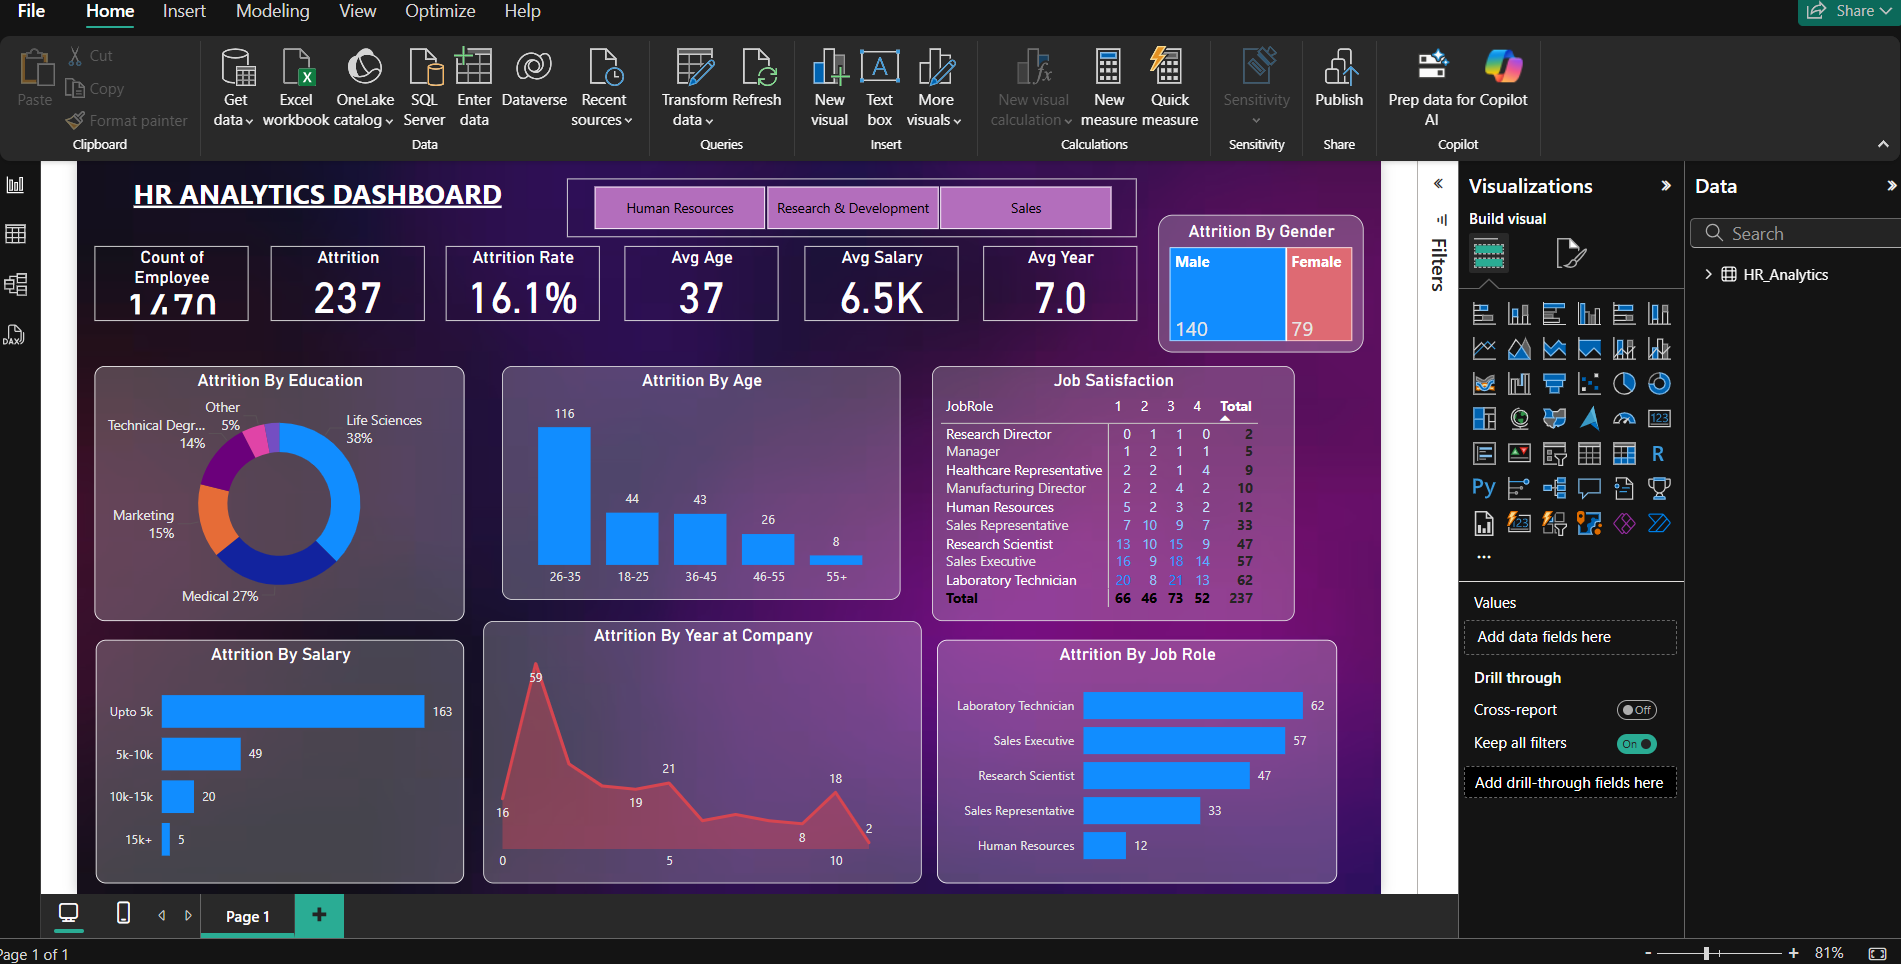

The page's visual inventory and layout, read from the dashboard file:
{"tool":"powerbi","page":{"name":"Page 1","canvas":[1280,720],"ordinal":0},"visuals":[{"type":"card","title":"Count of Employee","fields":{"Values":["CountNonNull(HR_Analytics.EmpID)"]},"box":[17.2,83.9,150.9,73.6],"z":0},{"type":"card","title":"Attrition ","fields":{"Values":["Sum(HR_Analytics.AttritonC)"]},"box":[190.2,83.9,150.9,73.6],"z":1},{"type":"card","title":"Attrition Rate","fields":{"Values":["HR_Analytics.AttritionRate"]},"box":[362,83.9,150.9,73.6],"z":2},{"type":"card","title":"Avg Age","fields":{"Values":["Avg(HR_Analytics.Age)"]},"box":[537.4,83.9,150.9,73.6],"z":3},{"type":"card","title":"Avg Year","fields":{"Values":["Avg(HR_Analytics.YearsAtCompany)"]},"box":[889.6,83.9,150.9,73.6],"z":4},{"type":"card","title":"Avg Salary","fields":{"Values":["Avg(HR_Analytics.MonthlyIncome)"]},"box":[714.1,83.9,150.9,73.6],"z":5},{"type":"donutChart","title":"Attrition By Education ","fields":{"Category":["HR_Analytics.EducationField"],"Y":["Sum(HR_Analytics.AttritonC)"]},"box":[17.2,201.2,363.2,250.3],"z":6},{"type":"columnChart","title":"Attrition By Age","fields":{"Y":["Sum(HR_Analytics.AttritonC)"],"Category":["HR_Analytics.AgeGroup"]},"box":[417.2,201.2,391.4,229.4],"z":7},{"type":"pivotTable","title":"Job Satisfaction ","fields":{"Rows":["HR_Analytics.JobRole"],"Columns":["HR_Analytics.JobSatisfaction"],"Values":["Sum(HR_Analytics.AttritonC)"]},"box":[839.3,201.2,355.8,250.3],"z":8},{"type":"barChart","title":"Attrition By Salary","fields":{"Category":["HR_Analytics.SalarySlab"],"Y":["Sum(HR_Analytics.AttritonC)"]},"box":[18.4,469.9,362,239.3],"z":9},{"type":"barChart","title":"Attrition By Job Role ","fields":{"Y":["Sum(HR_Analytics.AttritonC)"],"Category":["HR_Analytics.JobRole"]},"box":[844.2,469.9,392.6,239.3],"z":10},{"type":"areaChart","title":"Attrition By Year at Company","fields":{"Category":["HR_Analytics.YearsAtCompany"],"Y":["Sum(HR_Analytics.AttritonC)"]},"box":[399.1,451.8,430.5,258],"z":11},{"type":"treemap","title":"Attrition By Gender","fields":{"Group":["HR_Analytics.Gender"],"Values":["Sum(HR_Analytics.AttritonC)"]},"box":[1061.4,52.8,201.2,135],"z":12},{"type":"slicer","fields":{"Values":["HR_Analytics.Department"]},"box":[481,17.2,559.5,57.7],"z":13},{"type":"textbox","box":[18.4,8.6,435.6,66.3],"z":14}]}

Visuals, with their boxes on the page's 1280x720 design canvas (x1, y1, x2, y2). These are canvas units, not pixel positions in the 1901x964 screenshot, which may show the page scaled, cropped or inside an application window:
"Count of Employee" card: (17, 84, 168, 158)
"Attrition " card: (190, 84, 341, 158)
"Attrition Rate" card: (362, 84, 513, 158)
"Avg Age" card: (537, 84, 688, 158)
"Avg Year" card: (890, 84, 1040, 158)
"Avg Salary" card: (714, 84, 865, 158)
"Attrition By Education " donutChart: (17, 201, 380, 452)
"Attrition By Age" columnChart: (417, 201, 809, 431)
"Job Satisfaction " pivotTable: (839, 201, 1195, 452)
"Attrition By Salary" barChart: (18, 470, 380, 709)
"Attrition By Job Role " barChart: (844, 470, 1237, 709)
"Attrition By Year at Company" areaChart: (399, 452, 830, 710)
"Attrition By Gender" treemap: (1061, 53, 1263, 188)
slicer - HR_Analytics.Department: (481, 17, 1040, 75)
textbox: (18, 9, 454, 75)
